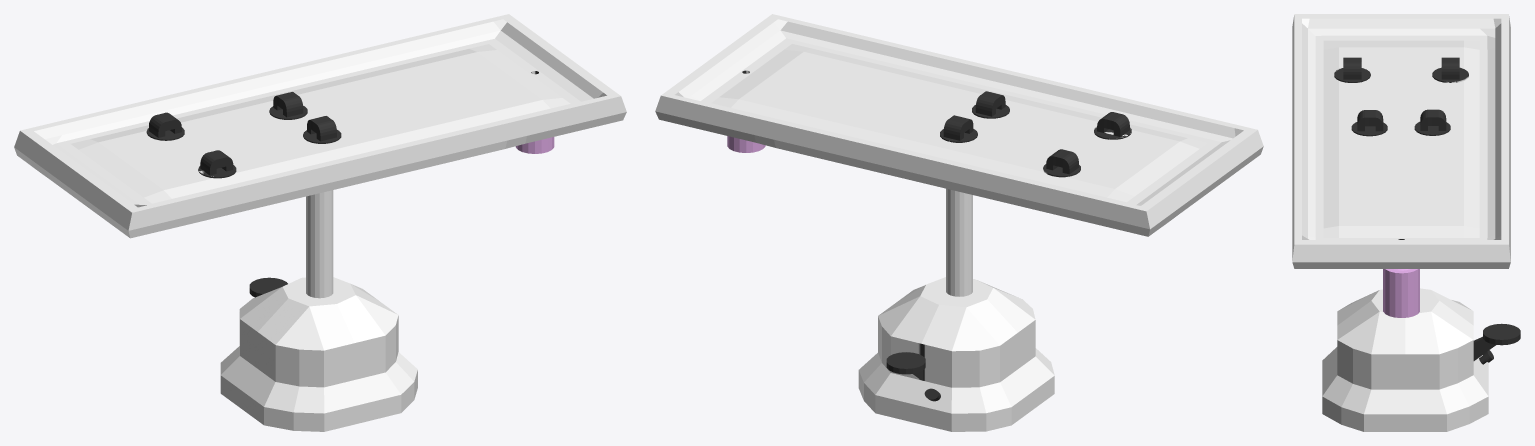
Rendered from surgery_table01.FBX.
The picture shows the model from 3 angles, left to right: view 1: azimuth 30°, elevation 25°; view 2: azimuth 150°, elevation 25°; view 3: azimuth 270°, elevation 25°; orthographic projection. The views are drawn at different scales.
Parts seen in each view (by area): view 1: Cylinder004; view 2: Cylinder004; view 3: Cylinder004.
Boxes of the visible parts, <box> form: Cylinder004: <box>14,14,626,431</box>; Cylinder004: <box>655,14,1263,431</box>; Cylinder004: <box>1292,14,1520,431</box>.
Bounding box in the file's own units: 81.29 × 33.76 × 44.94.
